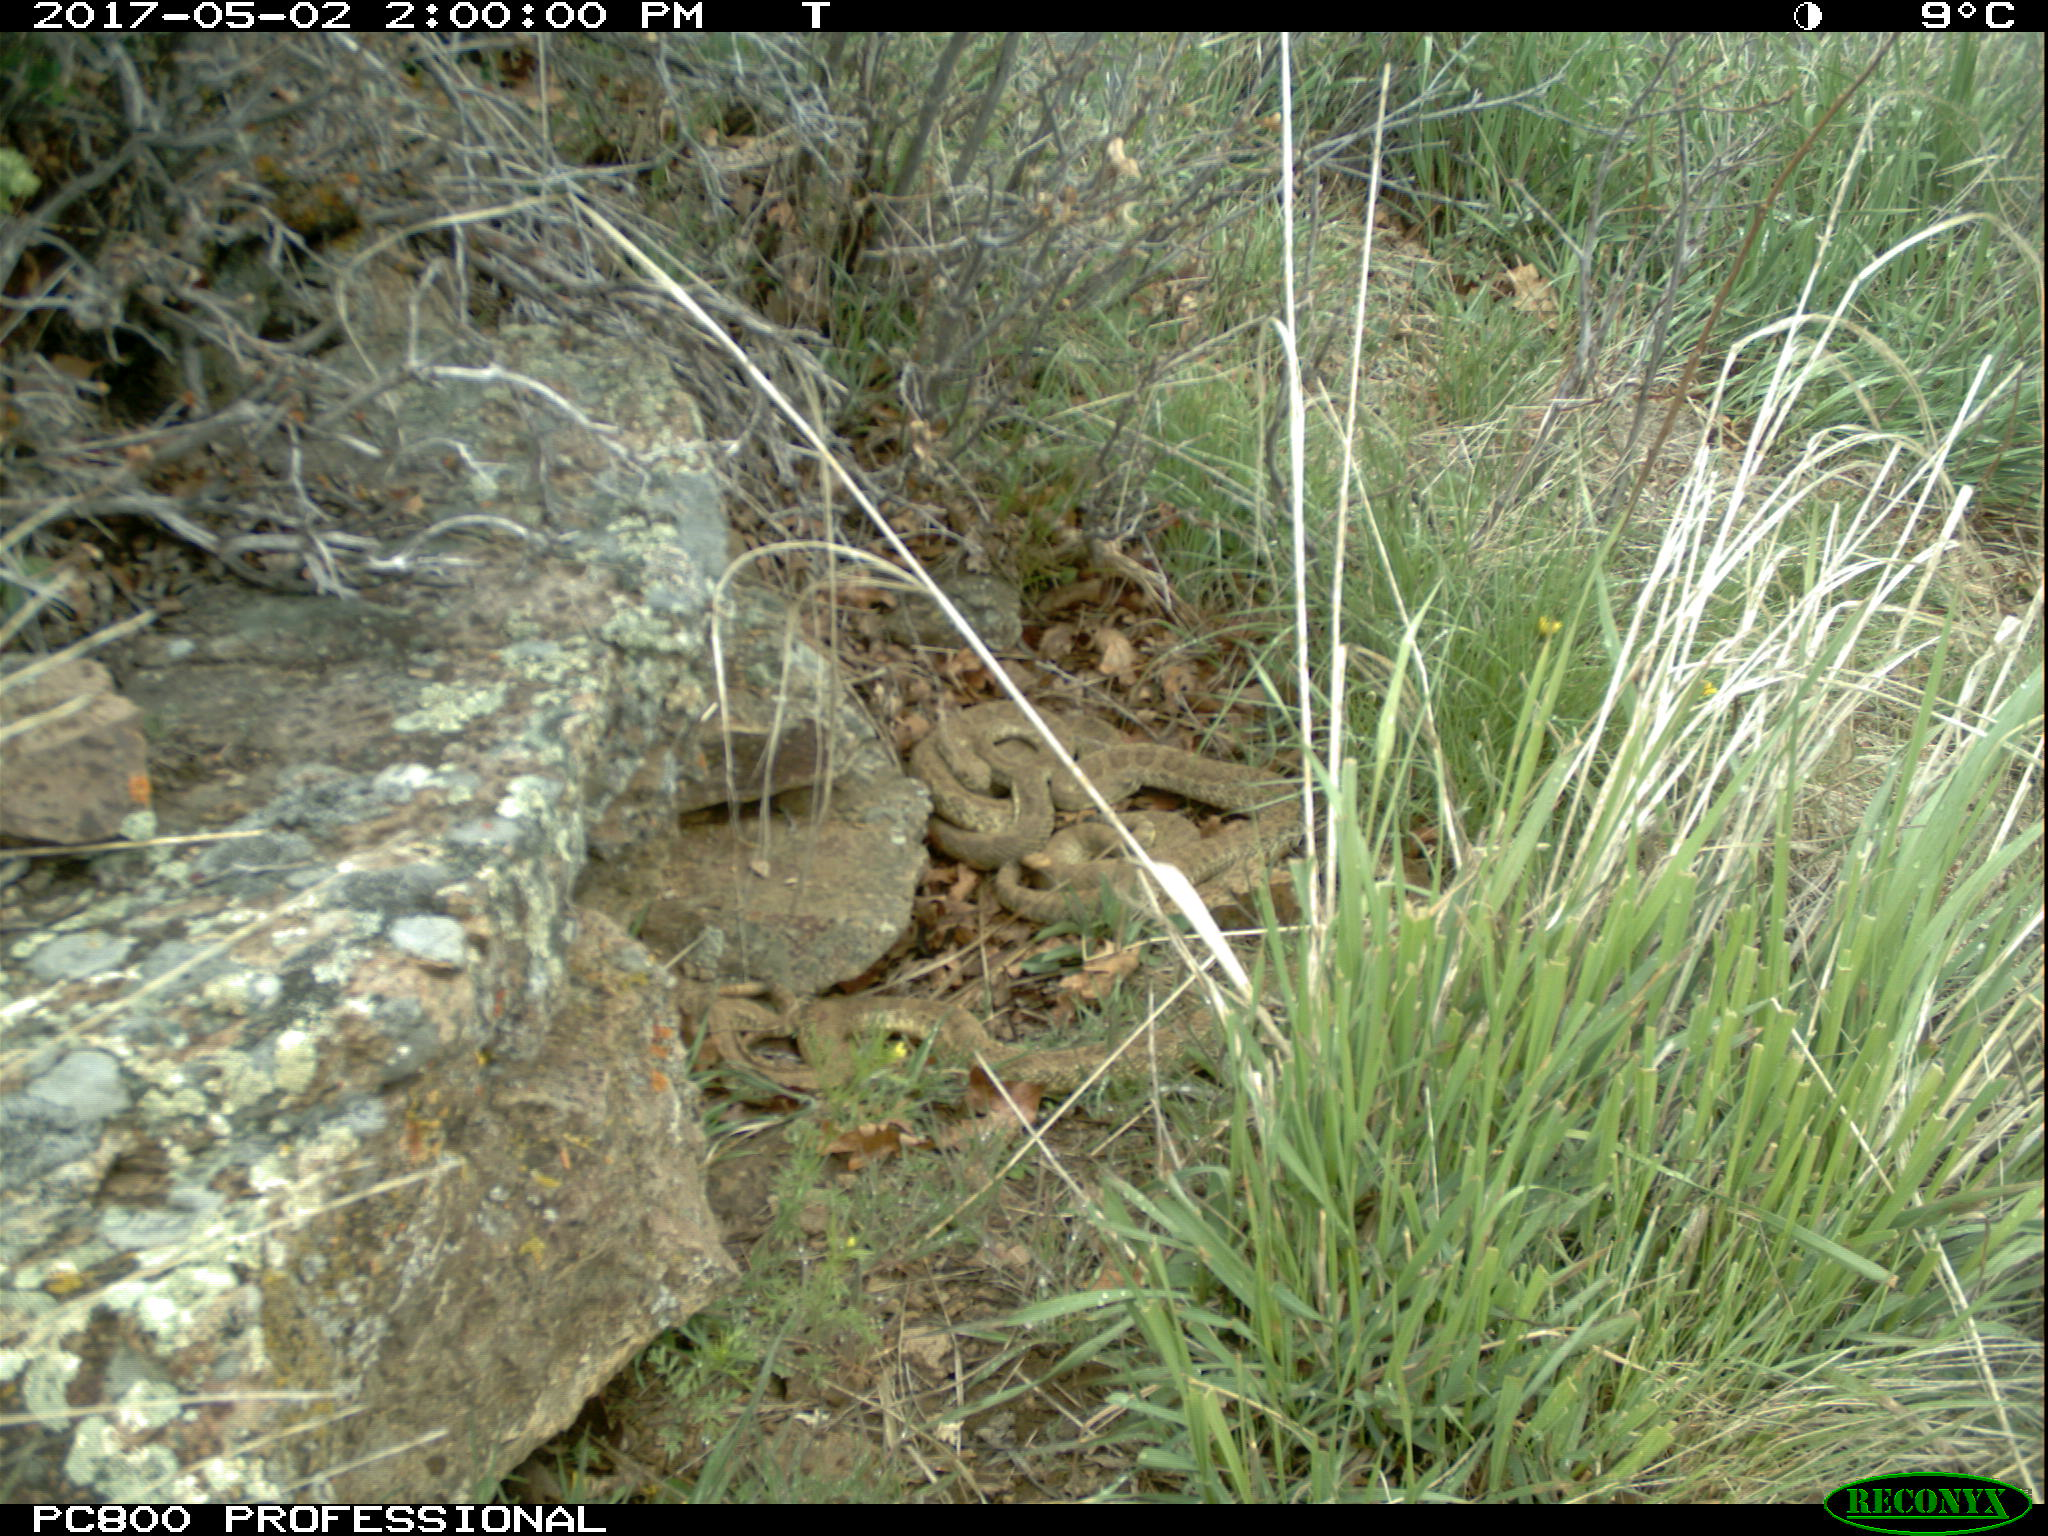snake: (708, 983, 1214, 1105), (1074, 744, 1314, 858), (921, 703, 1076, 866), (1005, 808, 1229, 920)
